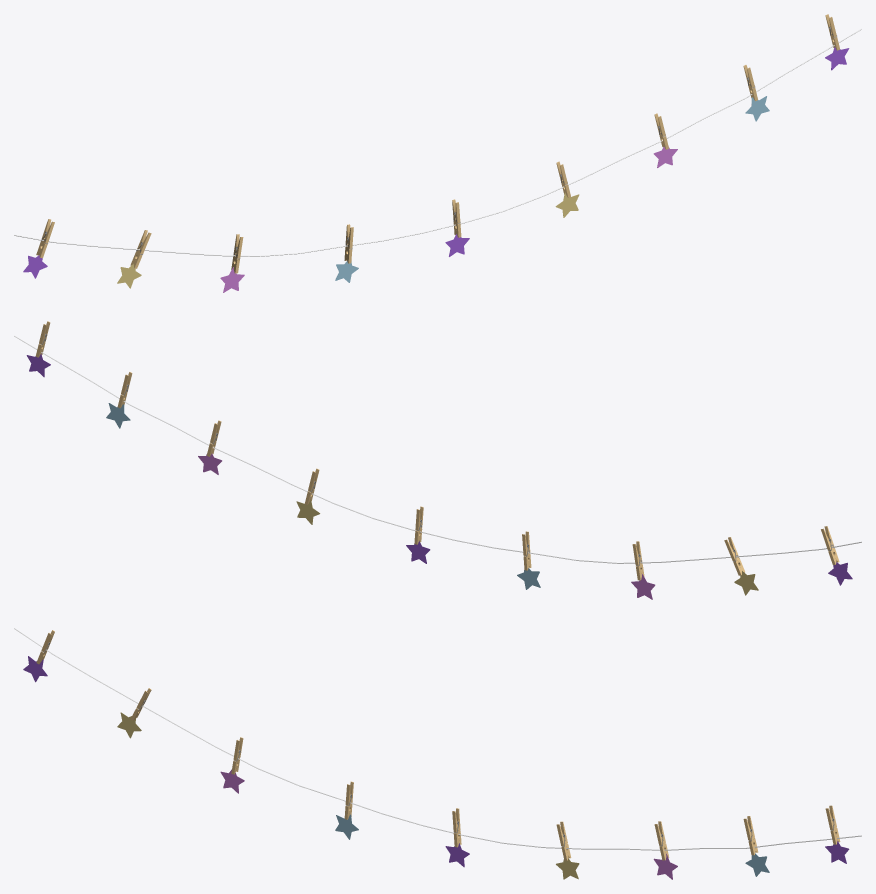
The model's file is Estrellitas.fbx.
The picture shows the model from 3 angles, top to bottom: view 1: azimuth 30°, elevation 25°; view 2: azimuth 150°, elevation 25°; view 3: azimuth 330°, elevation 25°; orthographic projection.
Visible parts, largest first — view 1: Plane.001, Cube.017, Cube.018, Cube.016, Cube.015, Cube.014, Cube.011, Cube.013; view 2: Plane.001, Cube.017, Cube.018, Cube.016, Cube.015, Cube.014, Cube.011, Cube.013; view 3: Plane.001, Cube.011, Cube.012, Cube.013, Cube.002, Cube.014, Cube.015, Cube.016, Cube.018, Cube.017.
Boxes of the visible parts, box(x1,y1,x2,y2) form: Plane.001: box(14, 29, 861, 256); Cube.017: box(117, 230, 151, 288); Cube.018: box(23, 219, 54, 278); Cube.016: box(220, 234, 244, 292); Cube.015: box(335, 224, 358, 282); Cube.014: box(445, 199, 469, 256); Cube.011: box(743, 65, 769, 121); Cube.013: box(555, 161, 579, 217); Plane.001: box(14, 336, 861, 563); Cube.017: box(724, 537, 758, 595); Cube.018: box(821, 526, 852, 585); Cube.016: box(631, 541, 655, 599); Cube.015: box(517, 531, 540, 589); Cube.014: box(406, 506, 430, 563); Cube.011: box(106, 372, 132, 428); Cube.013: box(296, 468, 320, 524); Plane.001: box(14, 628, 861, 850); Cube.011: box(743, 816, 769, 876); Cube.012: box(653, 821, 677, 879); Cube.013: box(556, 821, 579, 879); Cube.002: box(825, 805, 849, 863); Cube.014: box(445, 808, 469, 867); Cube.015: box(335, 781, 358, 839); Cube.016: box(220, 737, 244, 793); Cube.018: box(23, 630, 54, 682); Cube.017: box(117, 688, 151, 738).
Size of the model in its own units: 1809 by 306 by 15.18.
